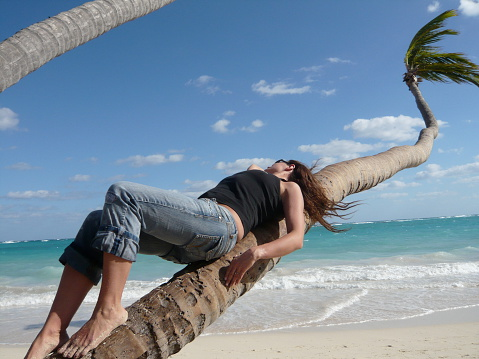deitado: (33, 142, 377, 348)
